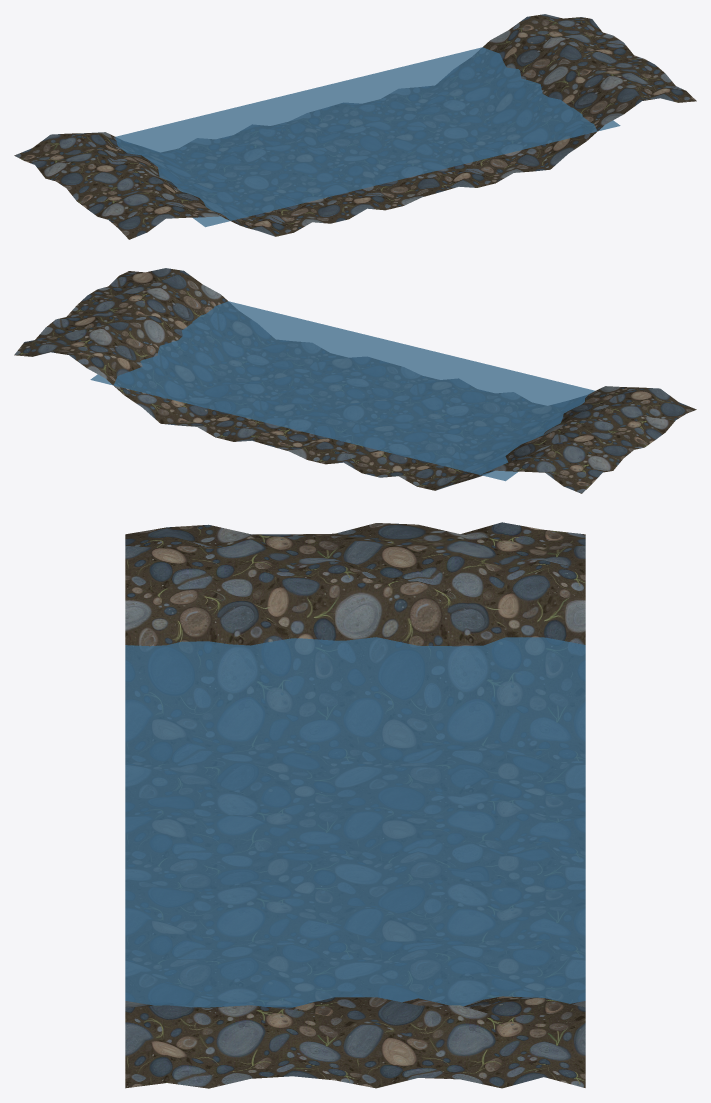
The model's file is river_straight.glb.
3 views of the same model, one above another, from view 1: azimuth 30°, elevation 25°; view 2: azimuth 150°, elevation 25°; view 3: azimuth 270°, elevation 25° (orthographic). The views are drawn at different scales.
Parts seen in each view (by area): view 1: river_bed, river_water; view 2: river_bed, river_water; view 3: river_bed, river_water.
Boxes of the visible parts, box(x1,y1,x2,y2) form: river_bed: box(14, 14, 696, 239); river_water: box(115, 47, 620, 227); river_bed: box(14, 268, 696, 493); river_water: box(90, 301, 595, 481); river_bed: box(125, 522, 585, 1088); river_water: box(125, 637, 585, 1007).
Bounding box in the file's own units: 17.08 × 1.39 × 6.
2 materials, 1 textured.
